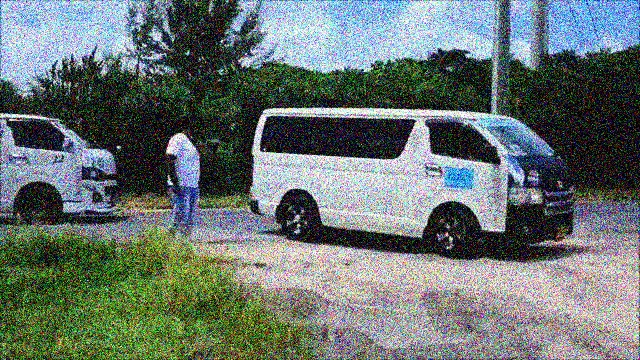van: (254, 103, 582, 253)
